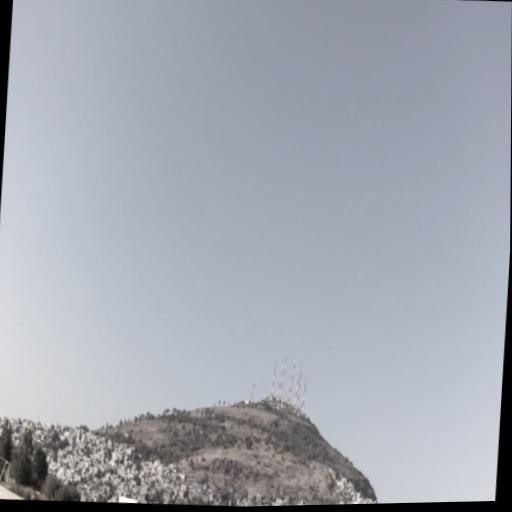drones: (281, 423, 286, 430)
